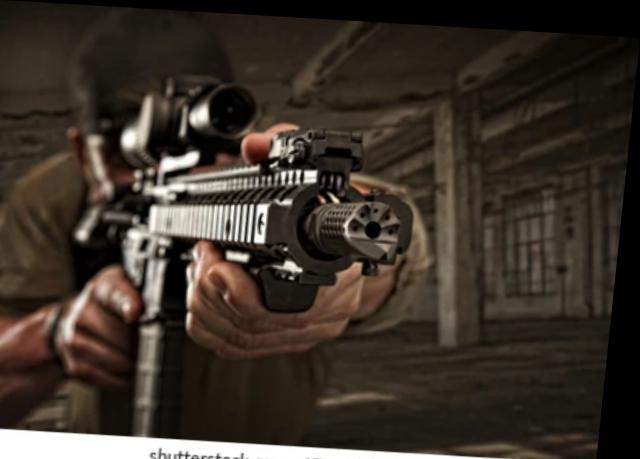other: (0, 19, 291, 429)
